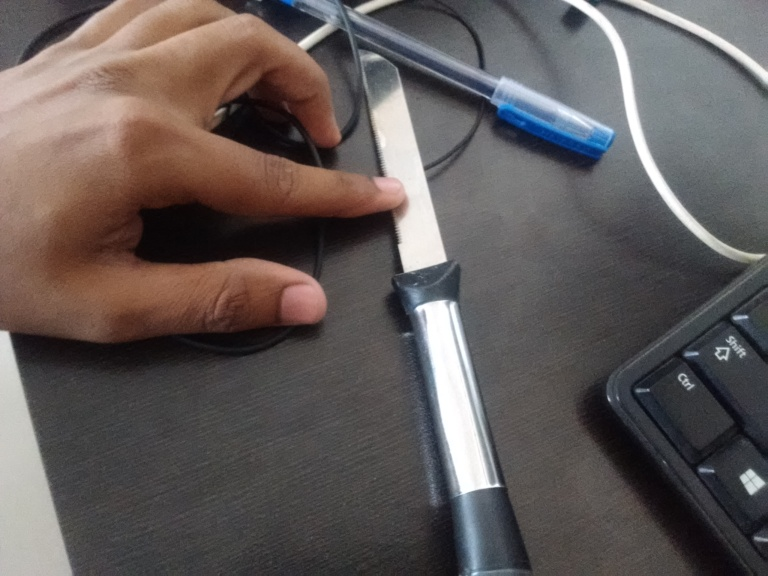knife: (353, 41, 538, 576)
